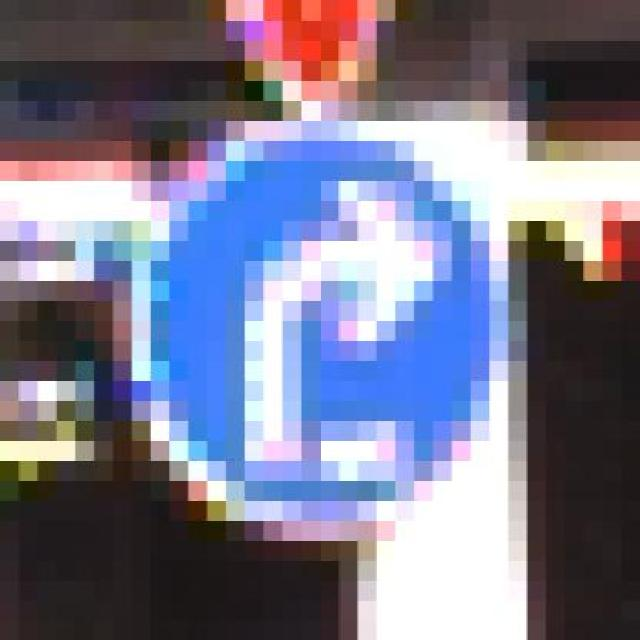Turn right ahead: (113, 120, 527, 520)
